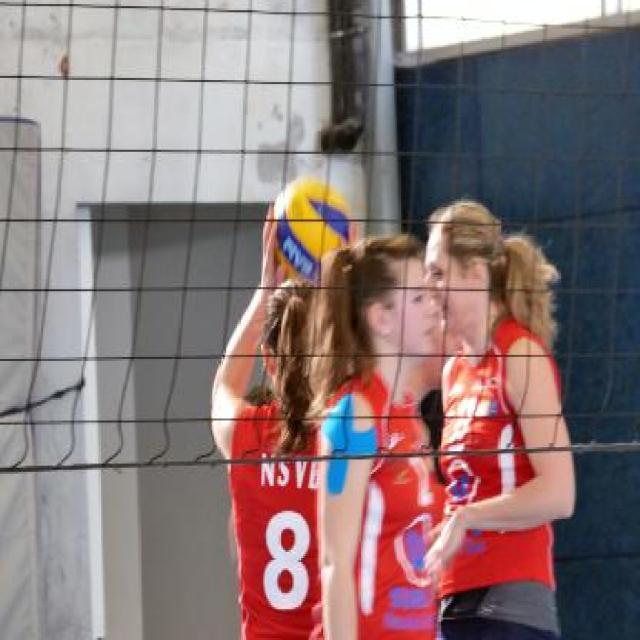volleyball: (275, 177, 354, 281)
